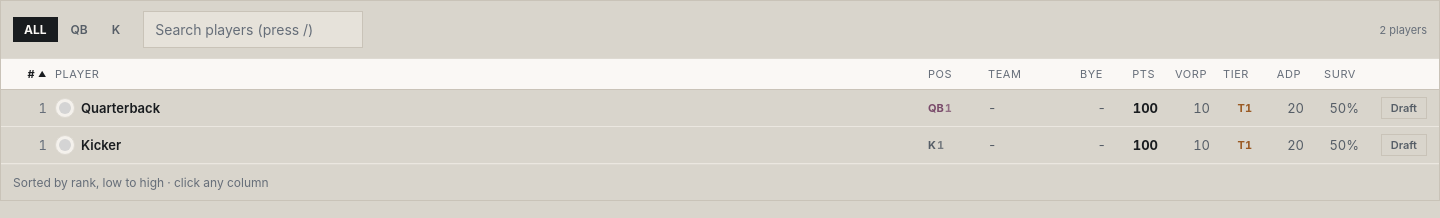
Board › builds position filters from league data, including kicker
The image size is (1440, 218).
Click the button "K": {"x": 116, "y": 30} [101,17,131,42]
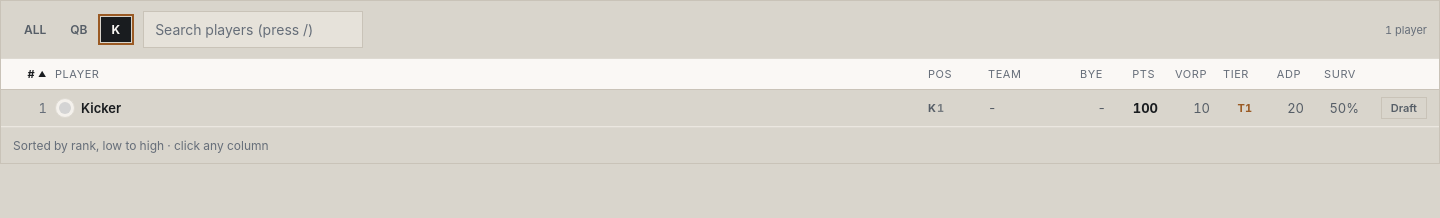
Expected: the text "Kicker" is shown, [81,100,121,116]
Now the text "Quarterback" is gone
